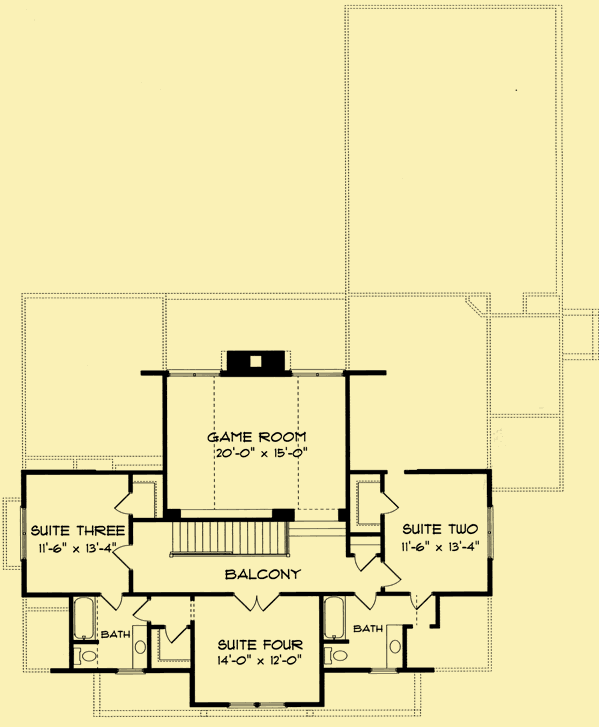bathroom with tub, small and large sink: (323, 585, 440, 676)
bathroom with tub, small and large sink and shower space: (68, 589, 192, 677)
stairs to the balcony: (161, 514, 325, 597)
this is a game room: (157, 346, 346, 521)
